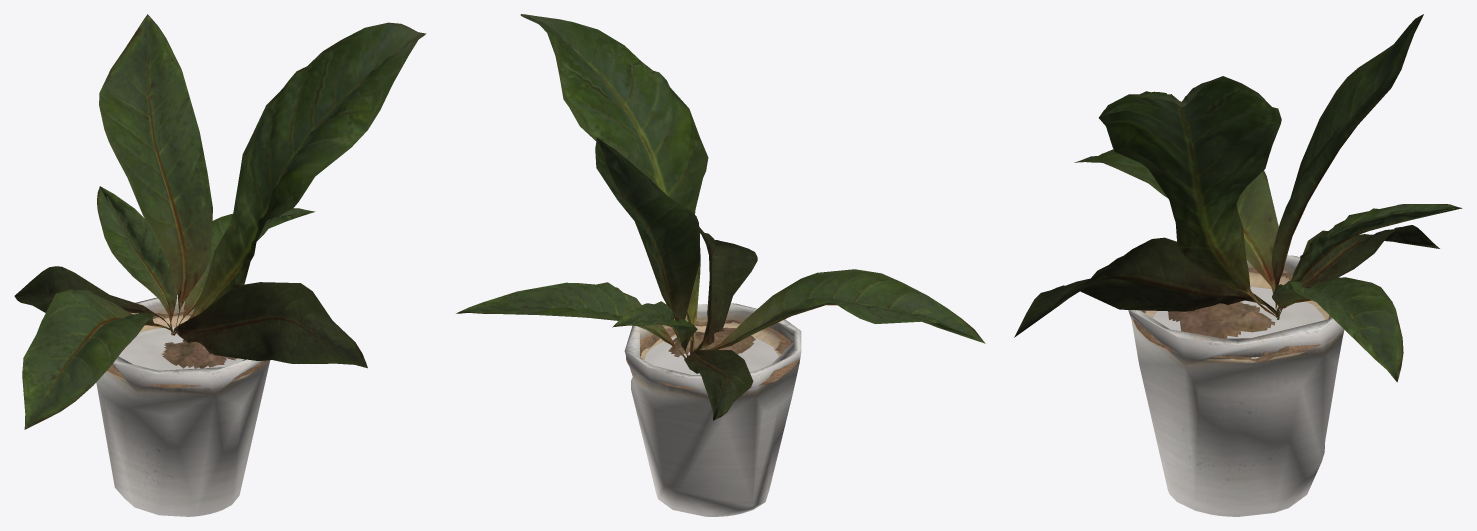
Rendered from doniczka_anturium_2.glb.
The picture shows the model from 3 angles, left to right: view 1: azimuth 30°, elevation 25°; view 2: azimuth 150°, elevation 25°; view 3: azimuth 270°, elevation 25°; orthographic projection. The views are drawn at different scales.
Parts seen in each view (by area): view 1: roslina, doniczka, ziemia; view 2: roslina, doniczka, ziemia; view 3: roslina, doniczka, ziemia.
Boxes of the visible parts, <box> form: roslina: <box>14,14,426,429</box>; doniczka: <box>96,297,269,516</box>; ziemia: <box>107,312,267,387</box>; roslina: <box>456,14,985,420</box>; doniczka: <box>624,303,801,516</box>; ziemia: <box>626,319,799,391</box>; roslina: <box>1014,14,1462,382</box>; doniczka: <box>1128,255,1344,516</box>; ziemia: <box>1133,267,1336,361</box>.
Size of the model in its own units: 0.4808 by 0.4497 by 0.3506.
Materials: 2 (2 with a texture image).
